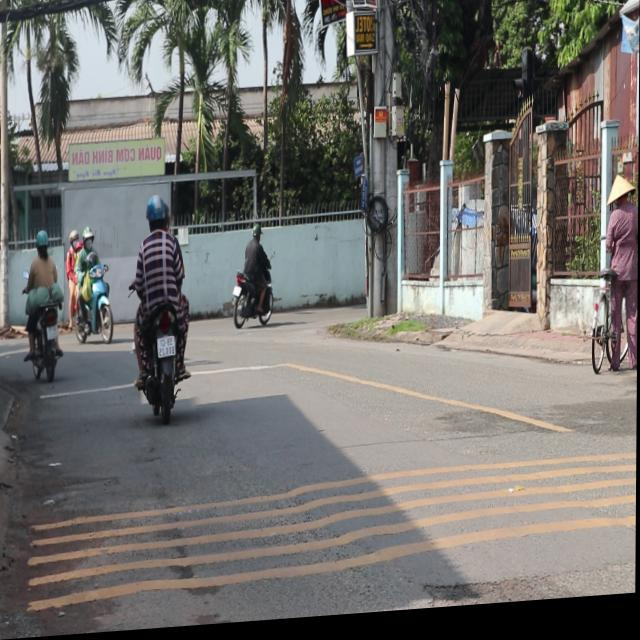helmet: (148, 196, 170, 233)
licenseplate: (132, 191, 195, 423)
nohelmet: (158, 337, 176, 360)
